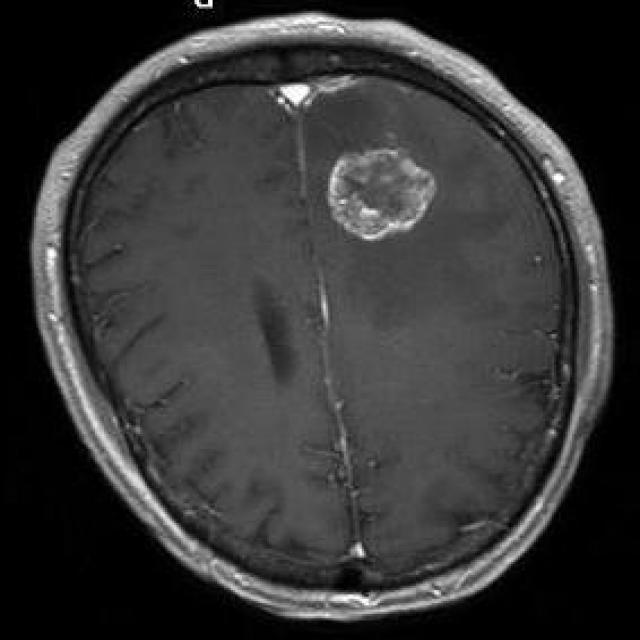Tumor: (321, 145, 443, 246)
